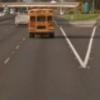buses: (27, 5, 56, 40)
